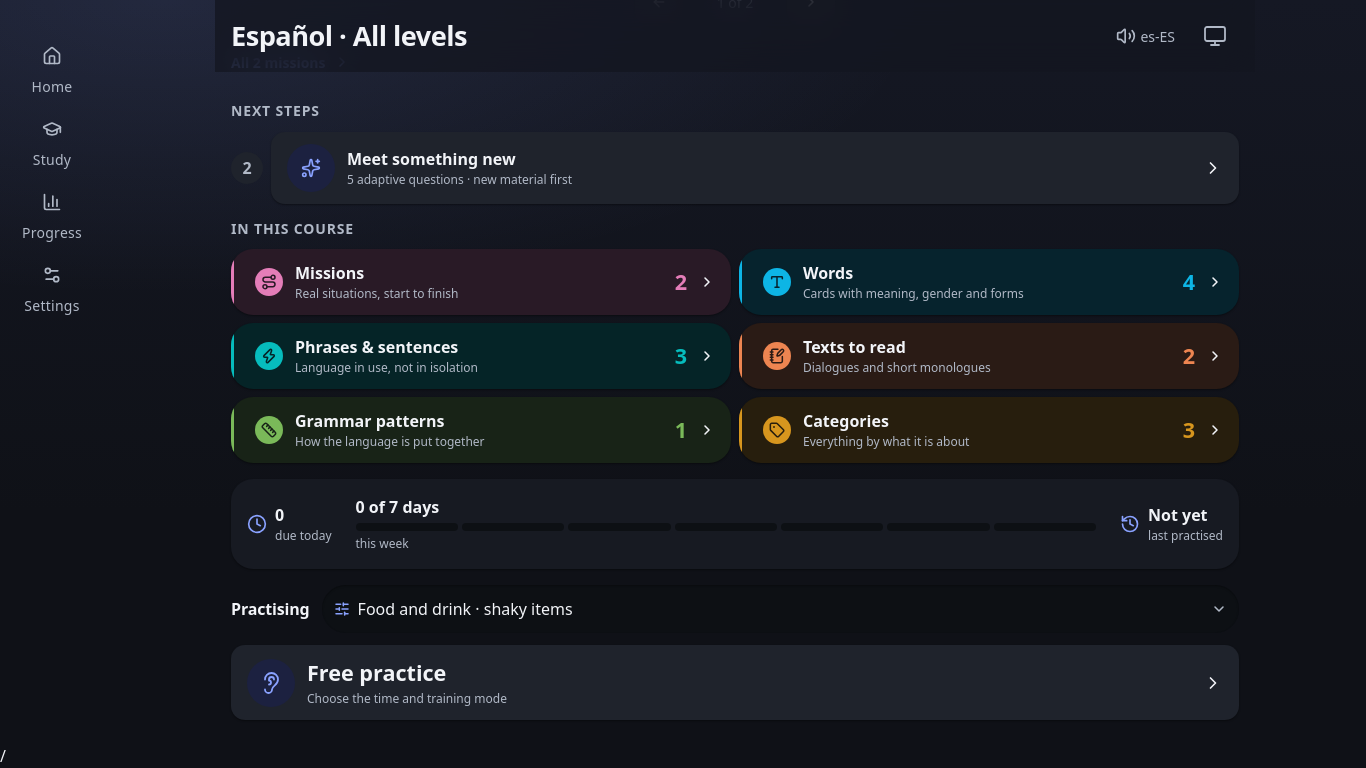
the session the choice starts › carries the categories and the focus in the link
The image size is (1366, 768).
(page scrolled)
Check: the heading "Español · All levels" is shown, box [231,17,467,54]
What coordinates should you click on to do the following:
click the button "Free practice Choose the time and training mode"
I would click on:
 (271, 683)
Its box is [231,645,1239,720].
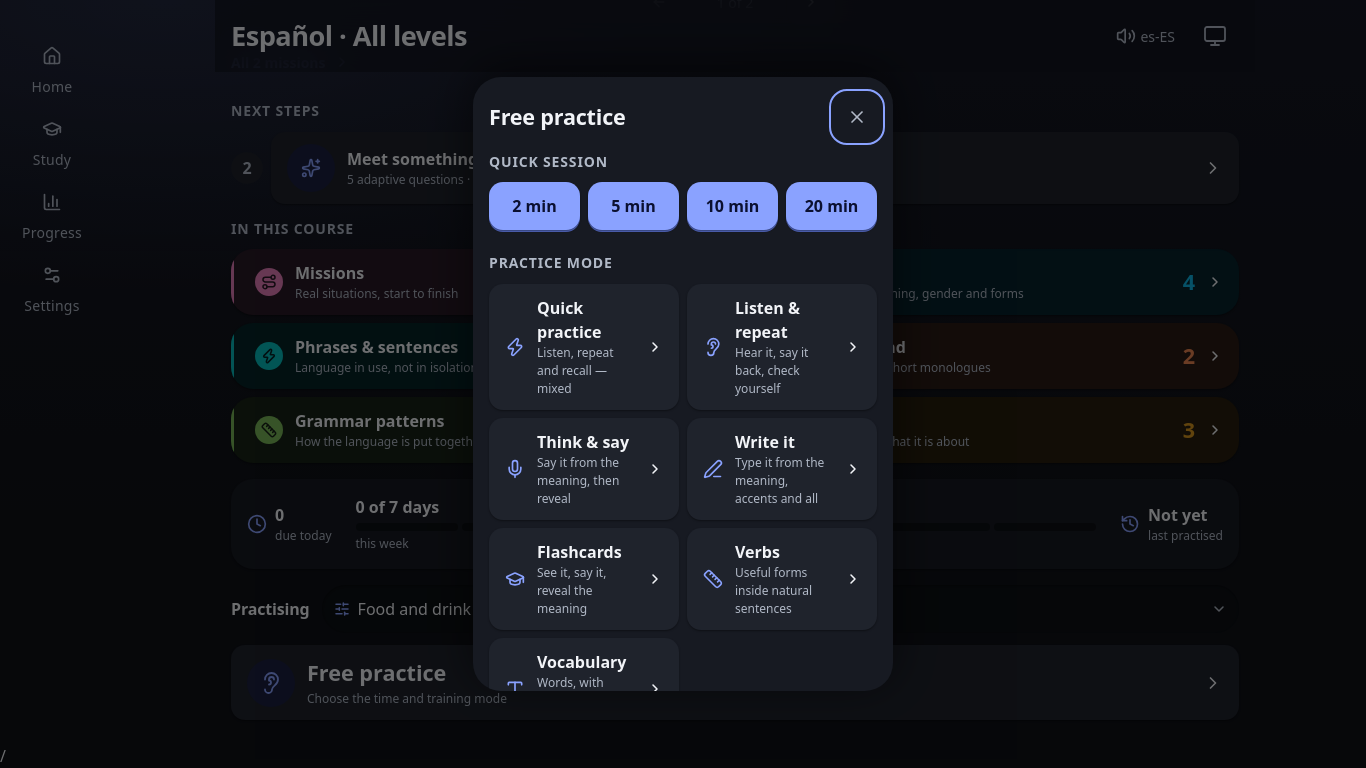
What coordinates should you click on to do the following:
click the button "Flashcards See it, say it, reveal the meaning"
I would click on:
 (584, 579)
Its box is [489,528,679,630].
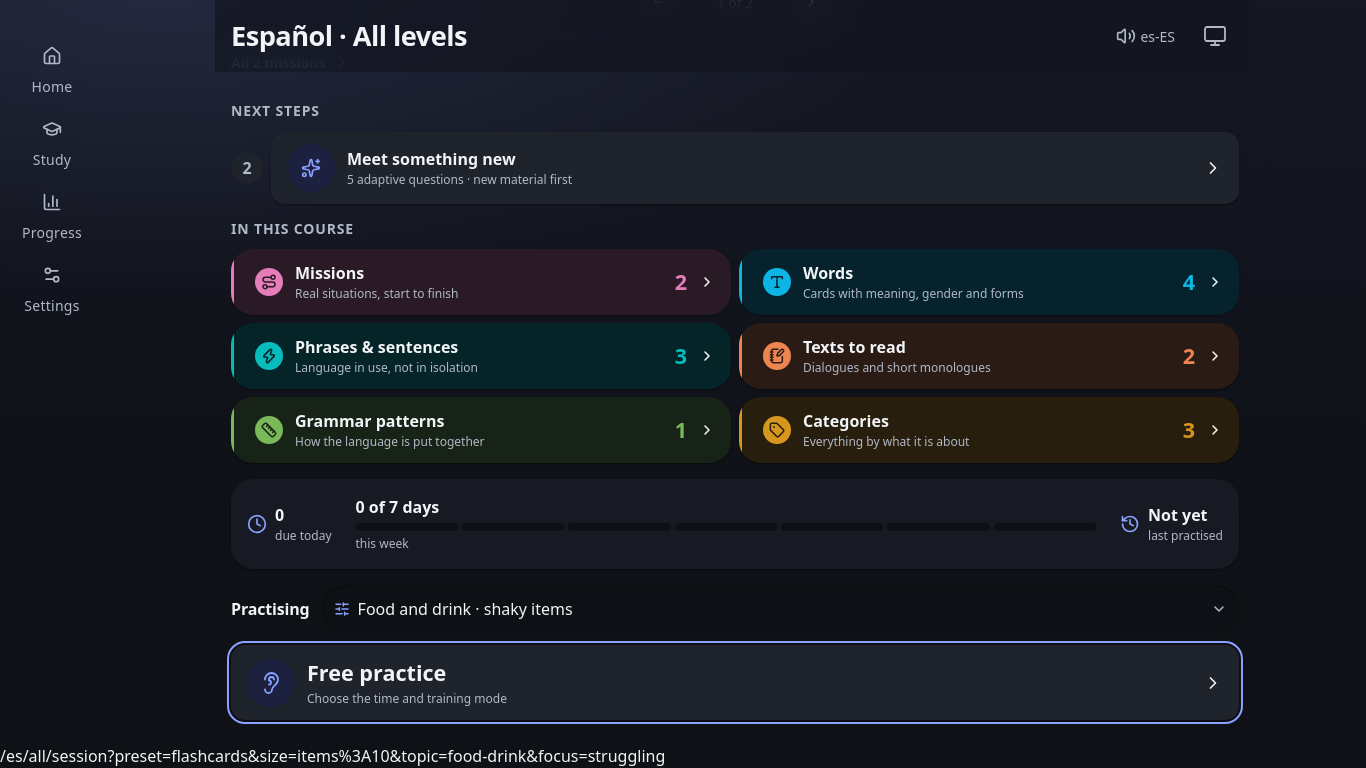
Check: the text with test id "where" shows "topic=food-drink", box [0,745,665,767]
Check: the text with test id "where" shows "focus=struggling", box [0,745,665,767]
